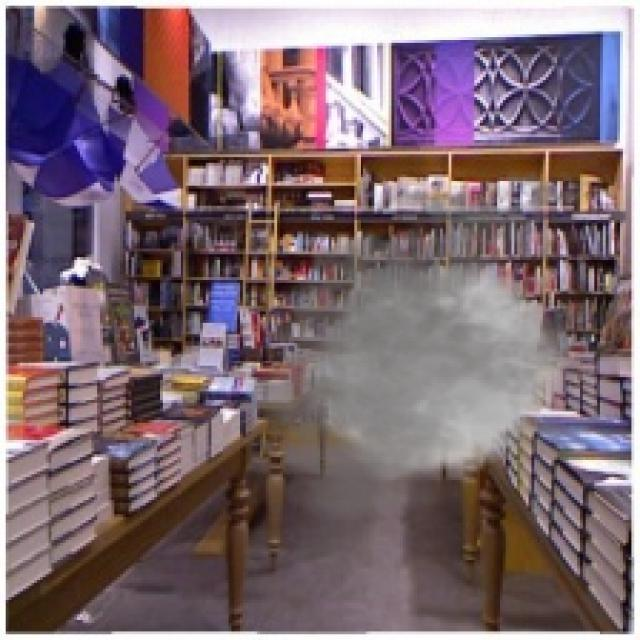Smoke: (225, 160, 638, 537)
